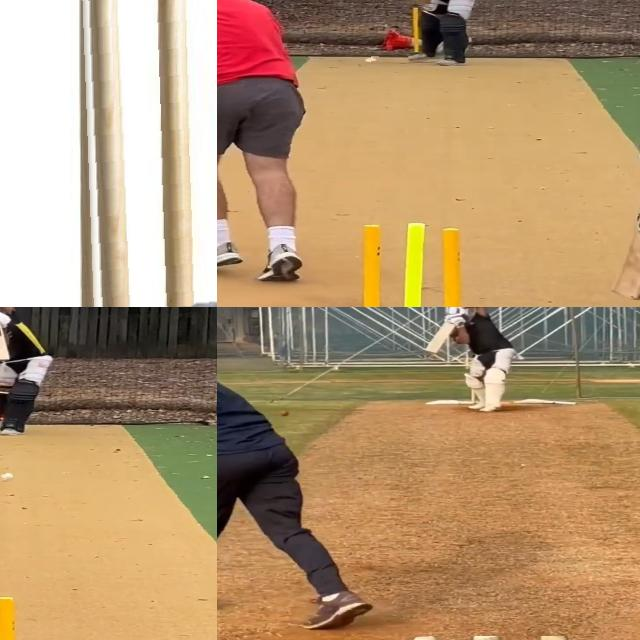Cricket ball: (0, 472, 14, 481), (364, 56, 379, 64)
Stumps: (72, 0, 217, 307), (343, 221, 474, 307)
